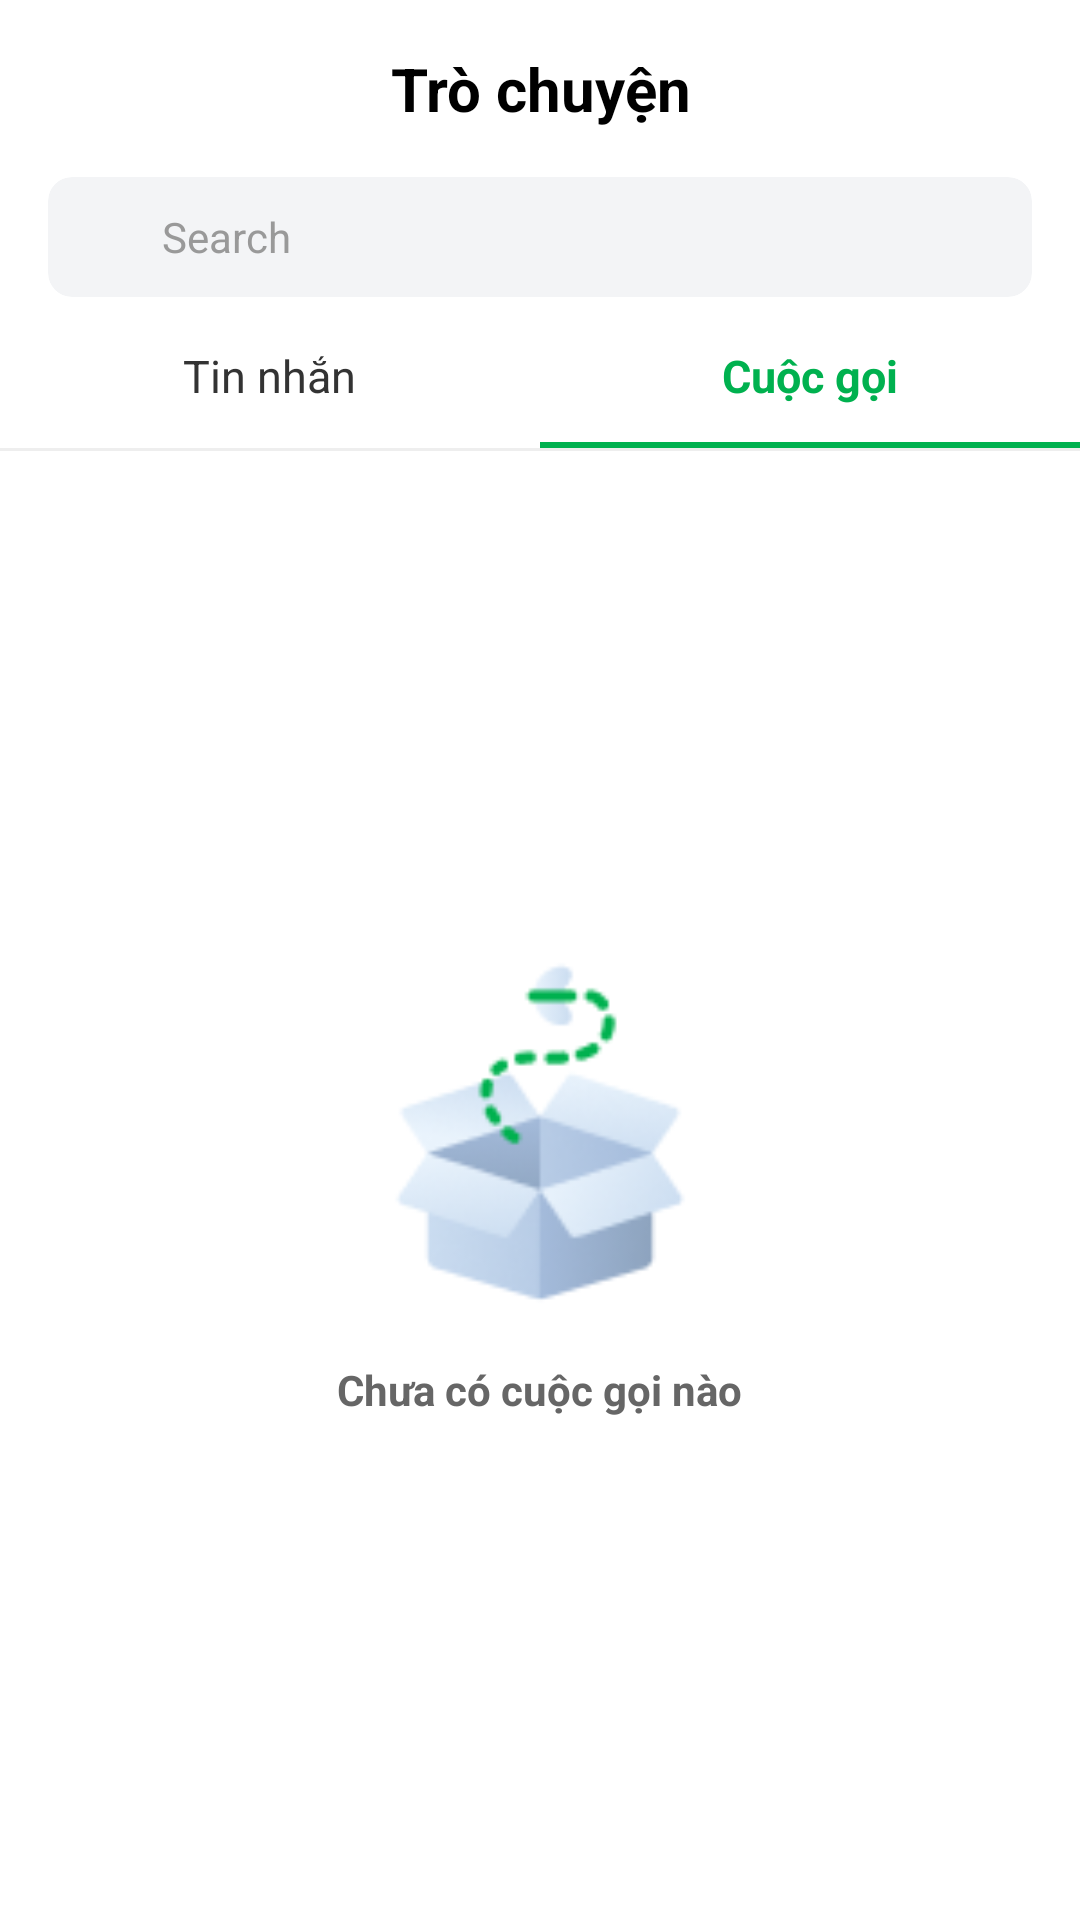

Icon bounding boxes for this 1080*1920 phone screenshot, format Rect(x1, y1, x2, y2):
vqd emptybox: Rect(400, 967, 682, 1300)
